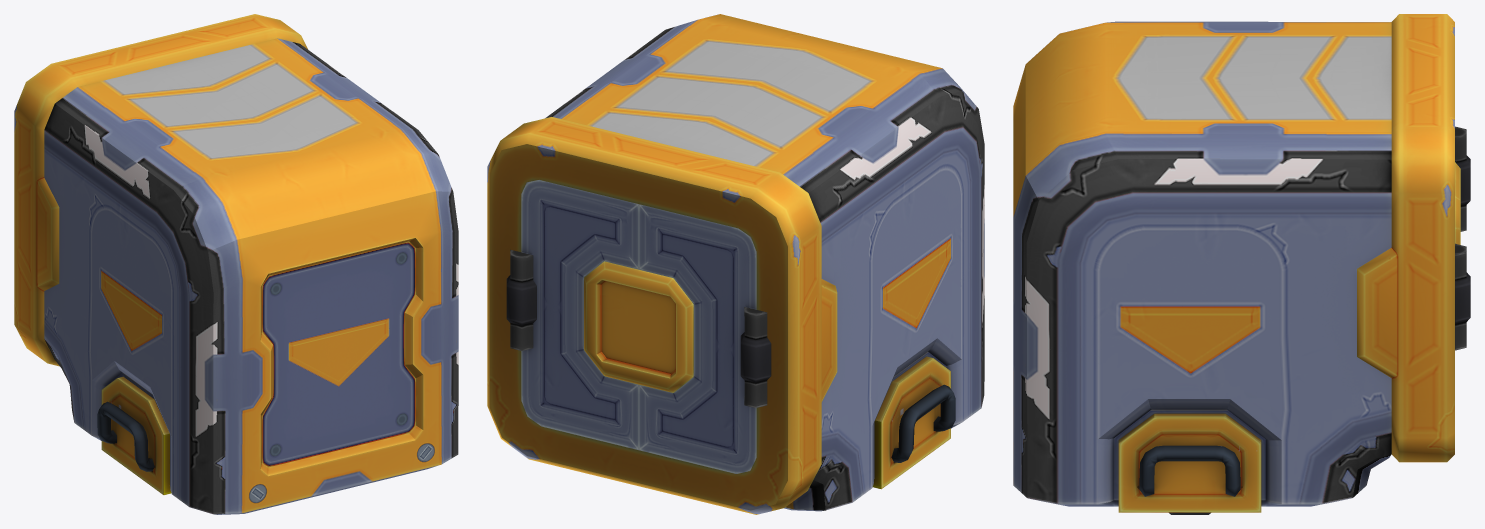
Rendered from obj_challenge_balltubebend.fbx.
The picture shows the model from 3 angles, left to right: view 1: azimuth 30°, elevation 25°; view 2: azimuth 150°, elevation 25°; view 3: azimuth 270°, elevation 25°; orthographic projection. The views are drawn at different scales.
Parts seen in each view (by area): view 1: obj_challenge_balltubebend; view 2: obj_challenge_balltubebend; view 3: obj_challenge_balltubebend.
Part boxes in pixels (x1,y1,x2,y2): obj_challenge_balltubebend: [14, 14, 458, 514]; obj_challenge_balltubebend: [487, 14, 984, 514]; obj_challenge_balltubebend: [1013, 14, 1470, 514].
Bounding box in the file's own units: 8.92 × 9.53 × 10.35.
